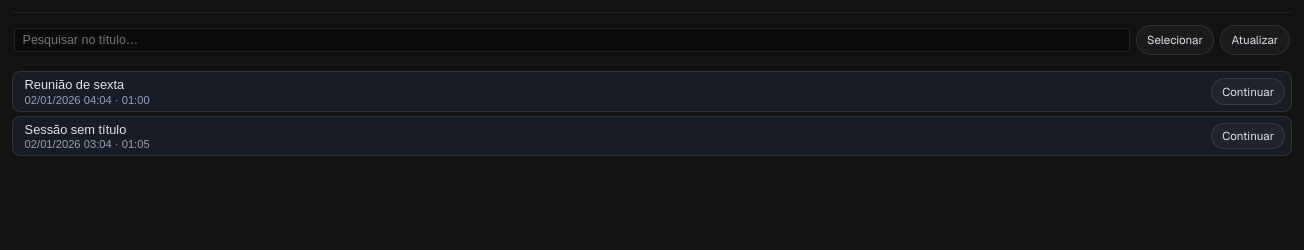
Test: HistoryPanel › sem resumo mostra aviso na aba Resumo
Click the text "Sessão sem título".
click(75, 129)  # box [25,122,126,137]
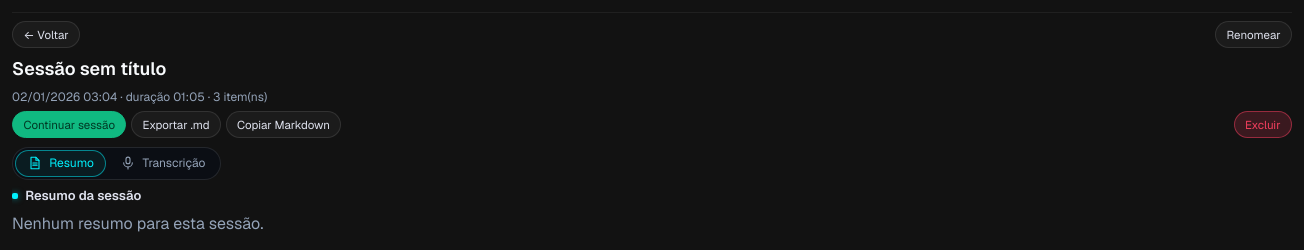
Result: the text "Nenhum resumo para esta sessão." is shown at [12,212,263,234]
